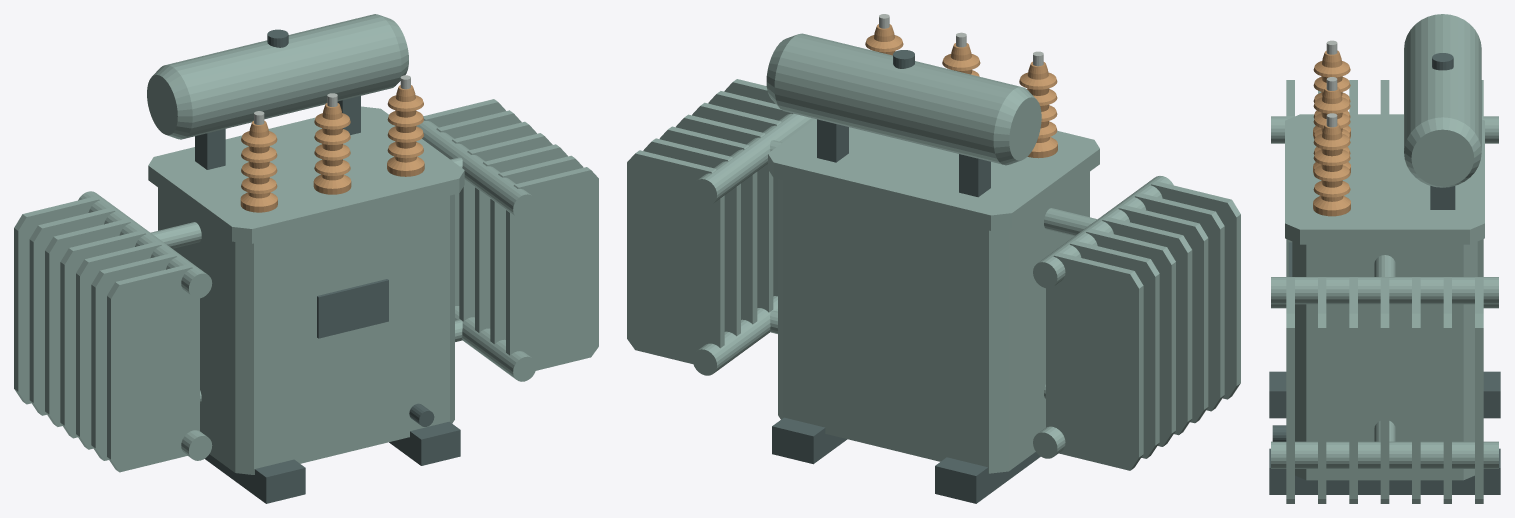
3 views of the same model, side by side, from view 1: azimuth 30°, elevation 25°; view 2: azimuth 150°, elevation 25°; view 3: azimuth 270°, elevation 25° (orthographic). The views are drawn at different scales.
Visible parts, largest first — view 1: WholeStandingChamferedTankCase, WholeProudChamferedTopCover, WholeElevatedHorizontalConservatorExterior, WholeLeftThickRadiatorPanel0, WholeRightThickRadiatorPanel0, WholeLeftThickRadiatorPanel3, WholeLeftThickRadiatorPanel4, WholeLeftThickRadiatorPanel5, WholeLeftThickRadiatorPanel6, WholeLeftThickRadiatorPanel1, WholeLeftThickRadiatorPanel2, WholeRightThickRadiatorPanel1 (+17 smaller); view 2: WholeStandingChamferedTankCase, WholeElevatedHorizontalConservatorExterior, WholeLeftThickRadiatorPanel6, WholeRightThickRadiatorPanel6, WholeProudChamferedTopCover, WholeLeftThickRadiatorPanel0, WholeLeftThickRadiatorPanel1, WholeLeftThickRadiatorPanel2, WholeLeftThickRadiatorPanel3, WholeLeftThickRadiatorPanel4, WholeLeftThickRadiatorPanel5, WholeRightThickRadiatorPanel4 (+16 smaller); view 3: WholeStandingChamferedTankCase, WholeProudChamferedTopCover, WholeElevatedHorizontalConservatorExterior, WholeRightUpperHeader, WholeRightLowerHeader, WholeGroundSkidRight, WholeRibbedTopBushing2, WholeRightThickRadiatorPanel3, WholeRightThickRadiatorPanel0, WholeRightThickRadiatorPanel2, WholeRightThickRadiatorPanel4, WholeRightThickRadiatorPanel6 (+14 smaller).
Boxes of the visible parts, box(x1,y1,x2,y2) form: WholeStandingChamferedTankCase: box(158, 187, 454, 474); WholeProudChamferedTopCover: box(148, 106, 464, 243); WholeElevatedHorizontalConservatorExterior: box(147, 14, 408, 139); WholeLeftThickRadiatorPanel0: box(107, 264, 199, 472); WholeRightThickRadiatorPanel0: box(506, 167, 598, 370); WholeLeftThickRadiatorPanel3: box(60, 230, 145, 438); WholeLeftThickRadiatorPanel4: box(45, 219, 130, 426); WholeLeftThickRadiatorPanel5: box(29, 207, 115, 415); WholeLeftThickRadiatorPanel6: box(14, 196, 99, 404); WholeLeftThickRadiatorPanel1: box(91, 253, 176, 460); WholeLeftThickRadiatorPanel2: box(76, 241, 161, 449); WholeRightThickRadiatorPanel1: box(490, 155, 583, 344); WholeStandingChamferedTankCase: box(778, 172, 1089, 473); WholeElevatedHorizontalConservatorExterior: box(766, 33, 1041, 165); WholeLeftThickRadiatorPanel6: box(1046, 252, 1143, 470); WholeRightThickRadiatorPanel6: box(627, 150, 724, 363); WholeProudChamferedTopCover: box(768, 119, 1099, 230); WholeLeftThickRadiatorPanel0: box(1151, 181, 1240, 399); WholeLeftThickRadiatorPanel1: box(1135, 193, 1224, 411); WholeLeftThickRadiatorPanel2: box(1118, 205, 1208, 423); WholeLeftThickRadiatorPanel3: box(1102, 216, 1192, 435); WholeLeftThickRadiatorPanel4: box(1086, 228, 1175, 446); WholeLeftThickRadiatorPanel5: box(1070, 240, 1159, 458); WholeRightThickRadiatorPanel4: box(659, 126, 757, 324); WholeStandingChamferedTankCase: box(1292, 241, 1477, 480); WholeProudChamferedTopCover: box(1285, 114, 1484, 244); WholeElevatedHorizontalConservatorExterior: box(1404, 14, 1481, 187); WholeRightUpperHeader: box(1271, 277, 1498, 304); WholeRightLowerHeader: box(1271, 441, 1498, 468); WholeGroundSkidRight: box(1269, 448, 1500, 494); WholeRibbedTopBushing2: box(1313, 123, 1350, 216); WholeRightThickRadiatorPanel3: box(1380, 277, 1389, 503); WholeRightThickRadiatorPanel0: box(1286, 277, 1294, 503); WholeRightThickRadiatorPanel2: box(1349, 277, 1357, 503); WholeRightThickRadiatorPanel4: box(1412, 277, 1420, 503); WholeRightThickRadiatorPanel6: box(1475, 277, 1483, 503).
Size of the model in its own units: 3.46 by 2.6 by 1.4.
